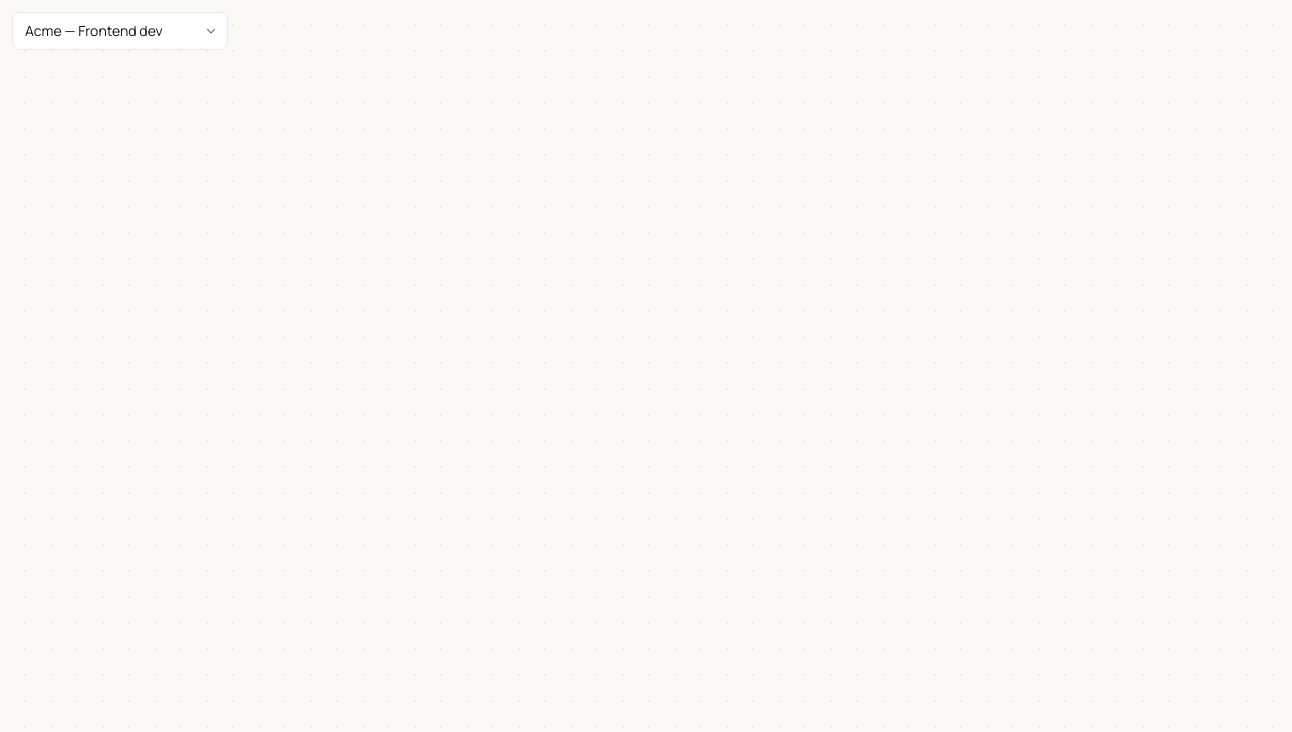
it: SearchSelect › clears the field to an empty filter when focused, so the first keystroke isn't appended to the selected label
Focus the dropdown named "Linked vacancy" at (120, 31), box [12,12,228,50]
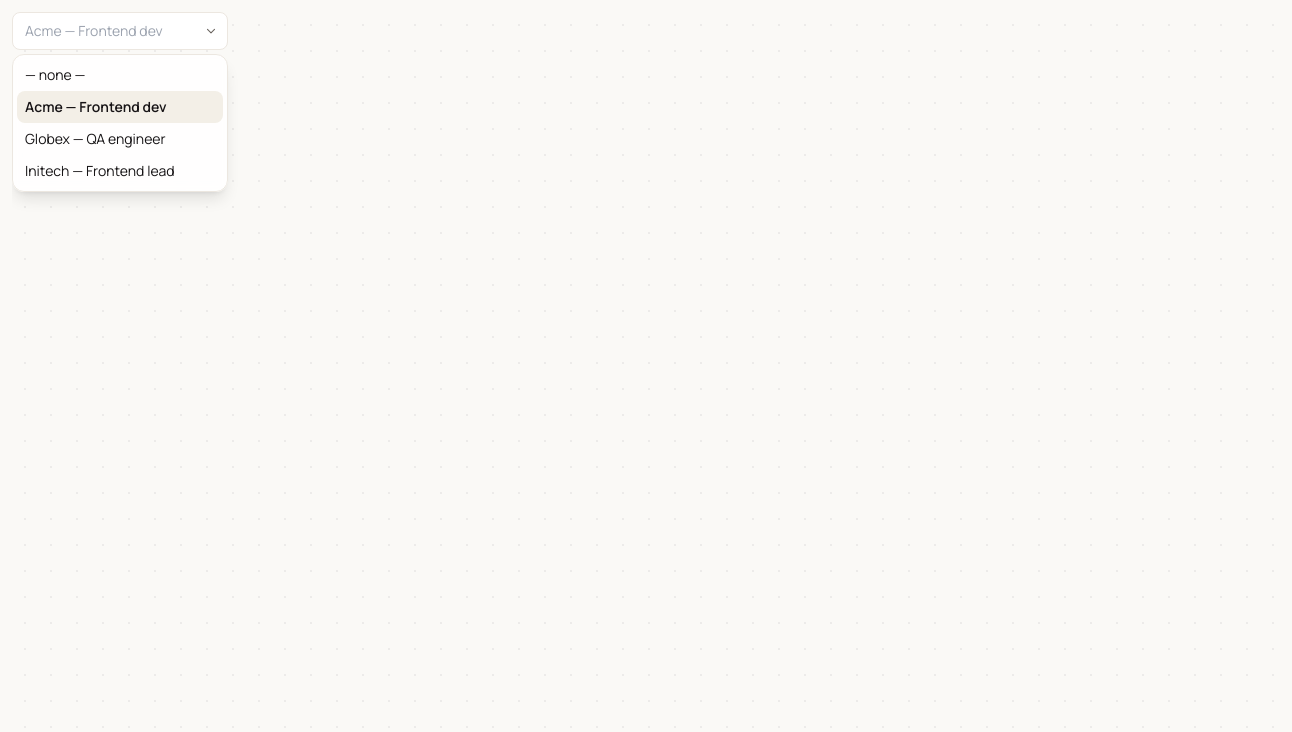
Result: the dropdown named "Linked vacancy" is empty at [12,12,228,50]
